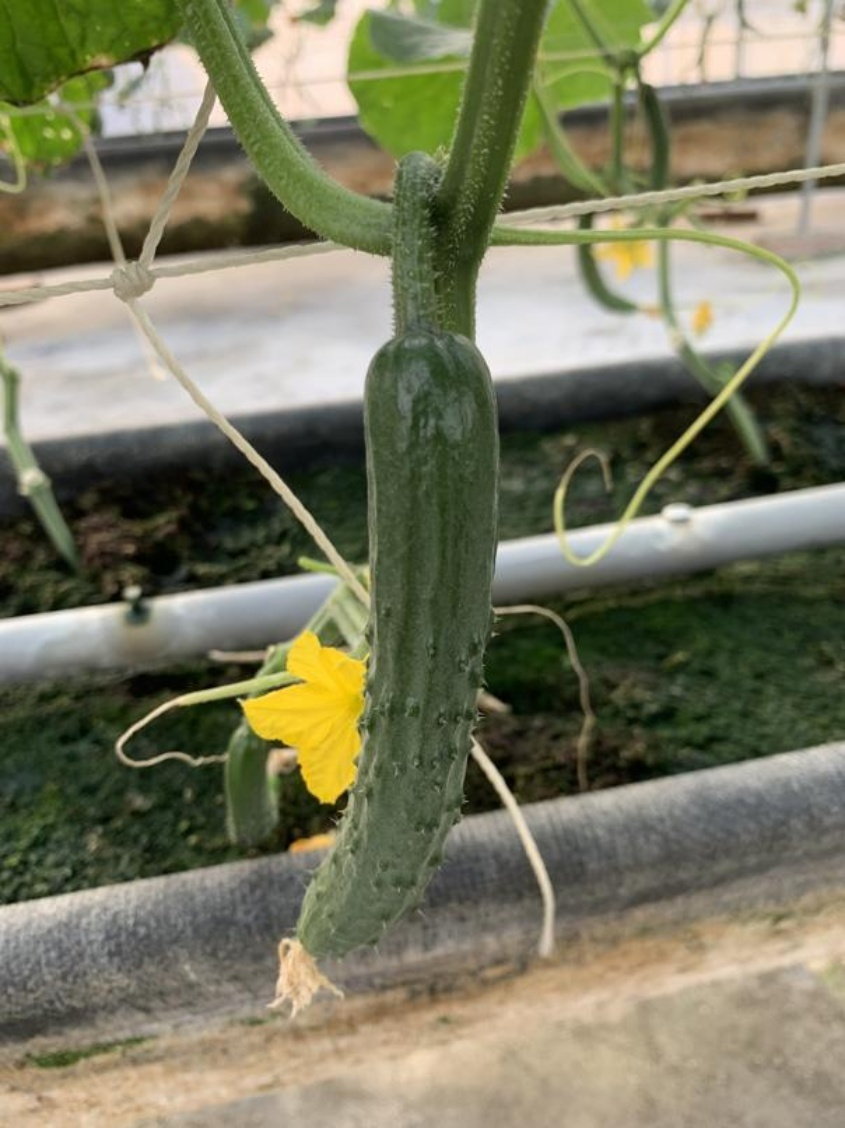mature: (254, 310, 519, 1015)
